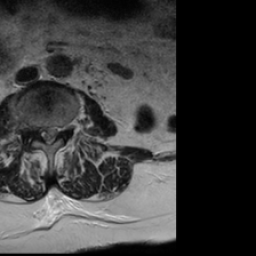CCS_normal: (45, 119, 52, 149)
LFS_stenosis: (60, 119, 66, 136)
LLS_normal: (53, 120, 59, 142)
RFS_severe_stenosis: (32, 119, 39, 137)
RLS_normal: (39, 118, 45, 142)
